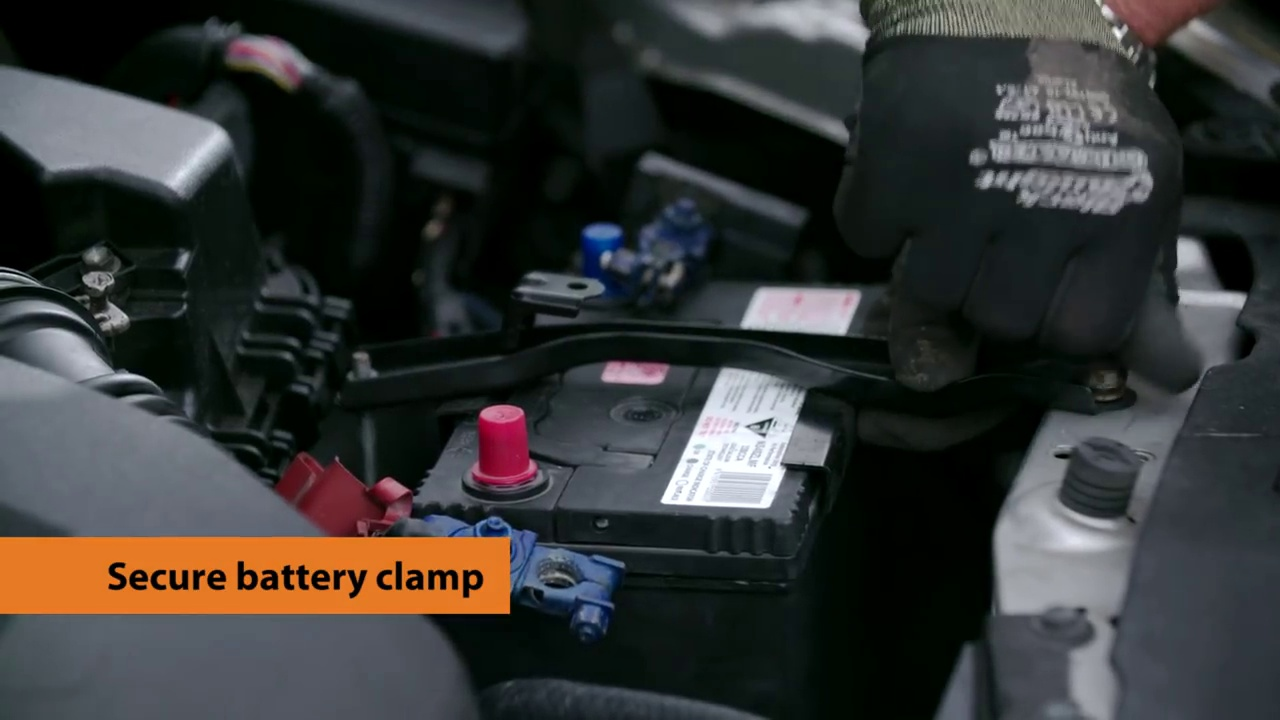battery: (427, 269, 867, 519)
pos_disconnected: (271, 398, 575, 588)
